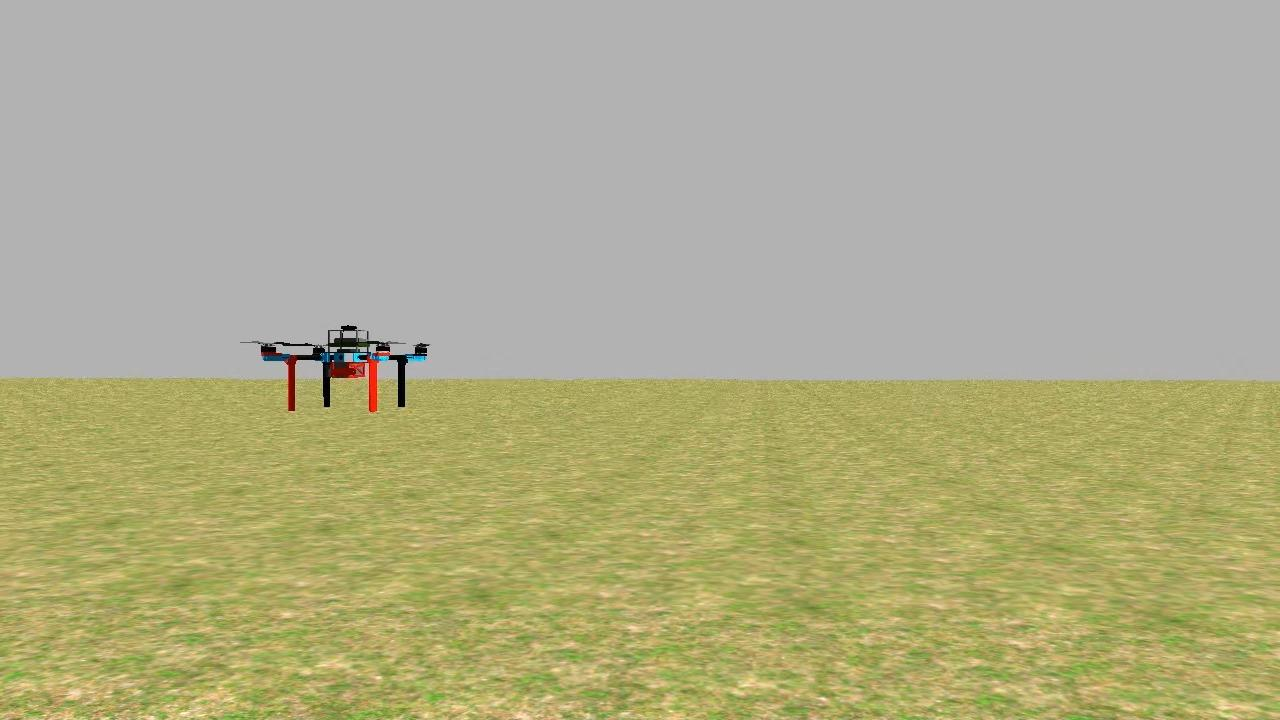UAV: (248, 300, 436, 429)
